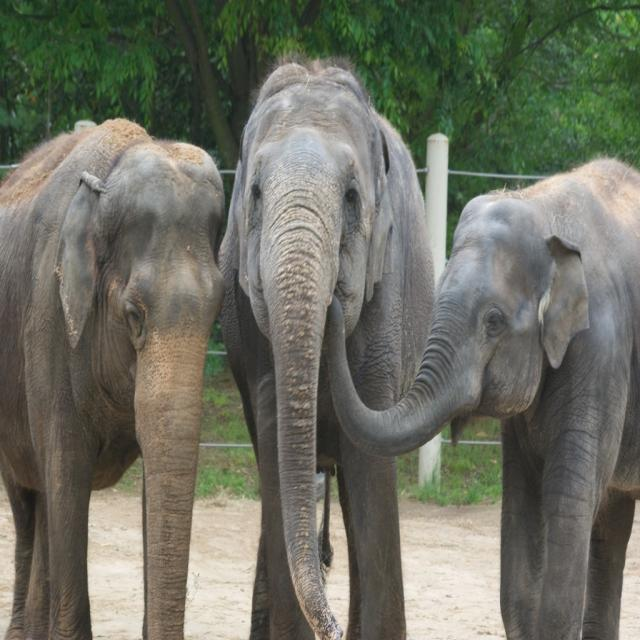elephant: (321, 147, 639, 639), (222, 60, 430, 639), (4, 119, 224, 640)
